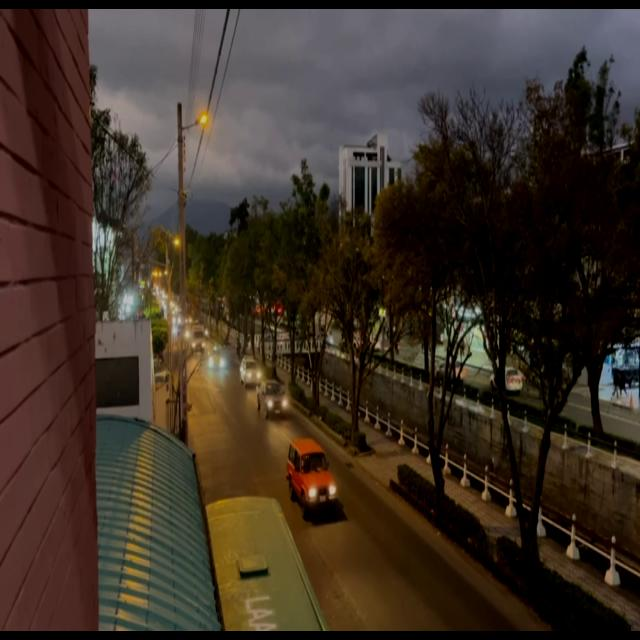CMT: (258, 381, 288, 416)
SUV: (288, 444, 334, 520), (242, 360, 260, 387)
